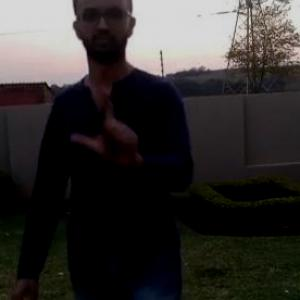land_hand: (66, 72, 150, 173)
